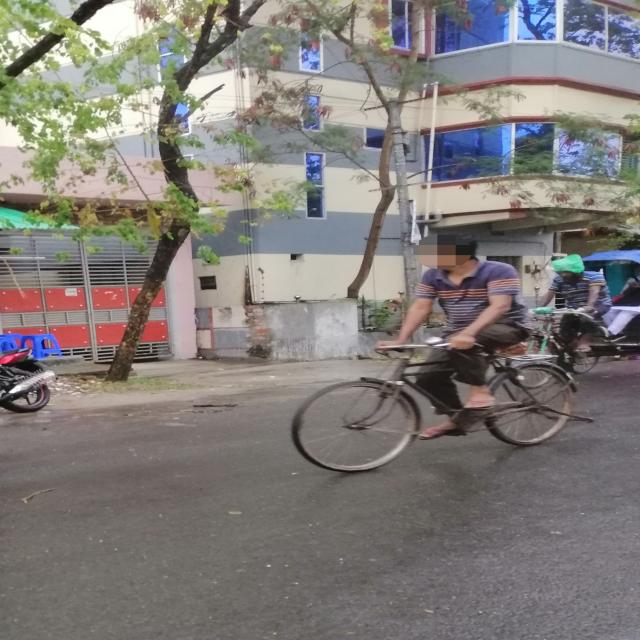Bicycle: (263, 337, 603, 474)
